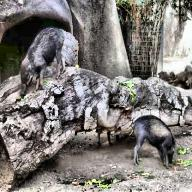boar: (20, 25, 72, 98), (133, 113, 186, 173)
